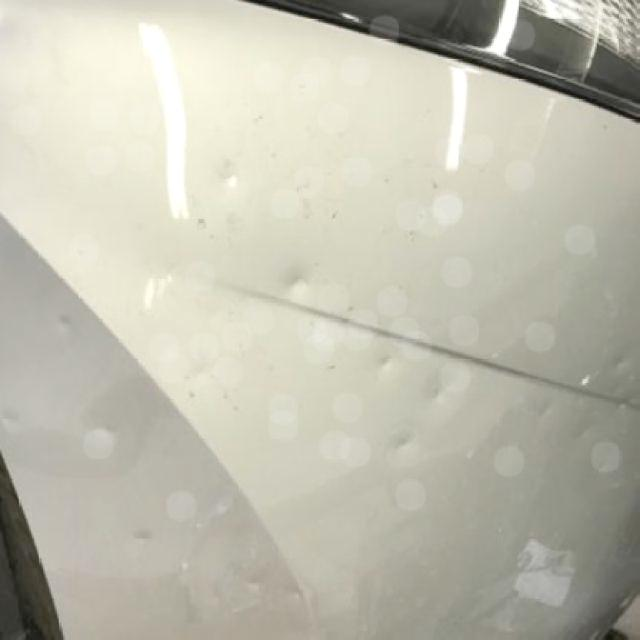dent: (389, 431, 422, 457), (281, 269, 307, 297), (428, 380, 454, 406), (213, 160, 238, 186), (0, 407, 26, 432), (372, 352, 395, 374), (131, 529, 154, 545), (53, 315, 72, 334), (612, 358, 631, 377), (535, 403, 554, 422), (575, 426, 592, 445)
